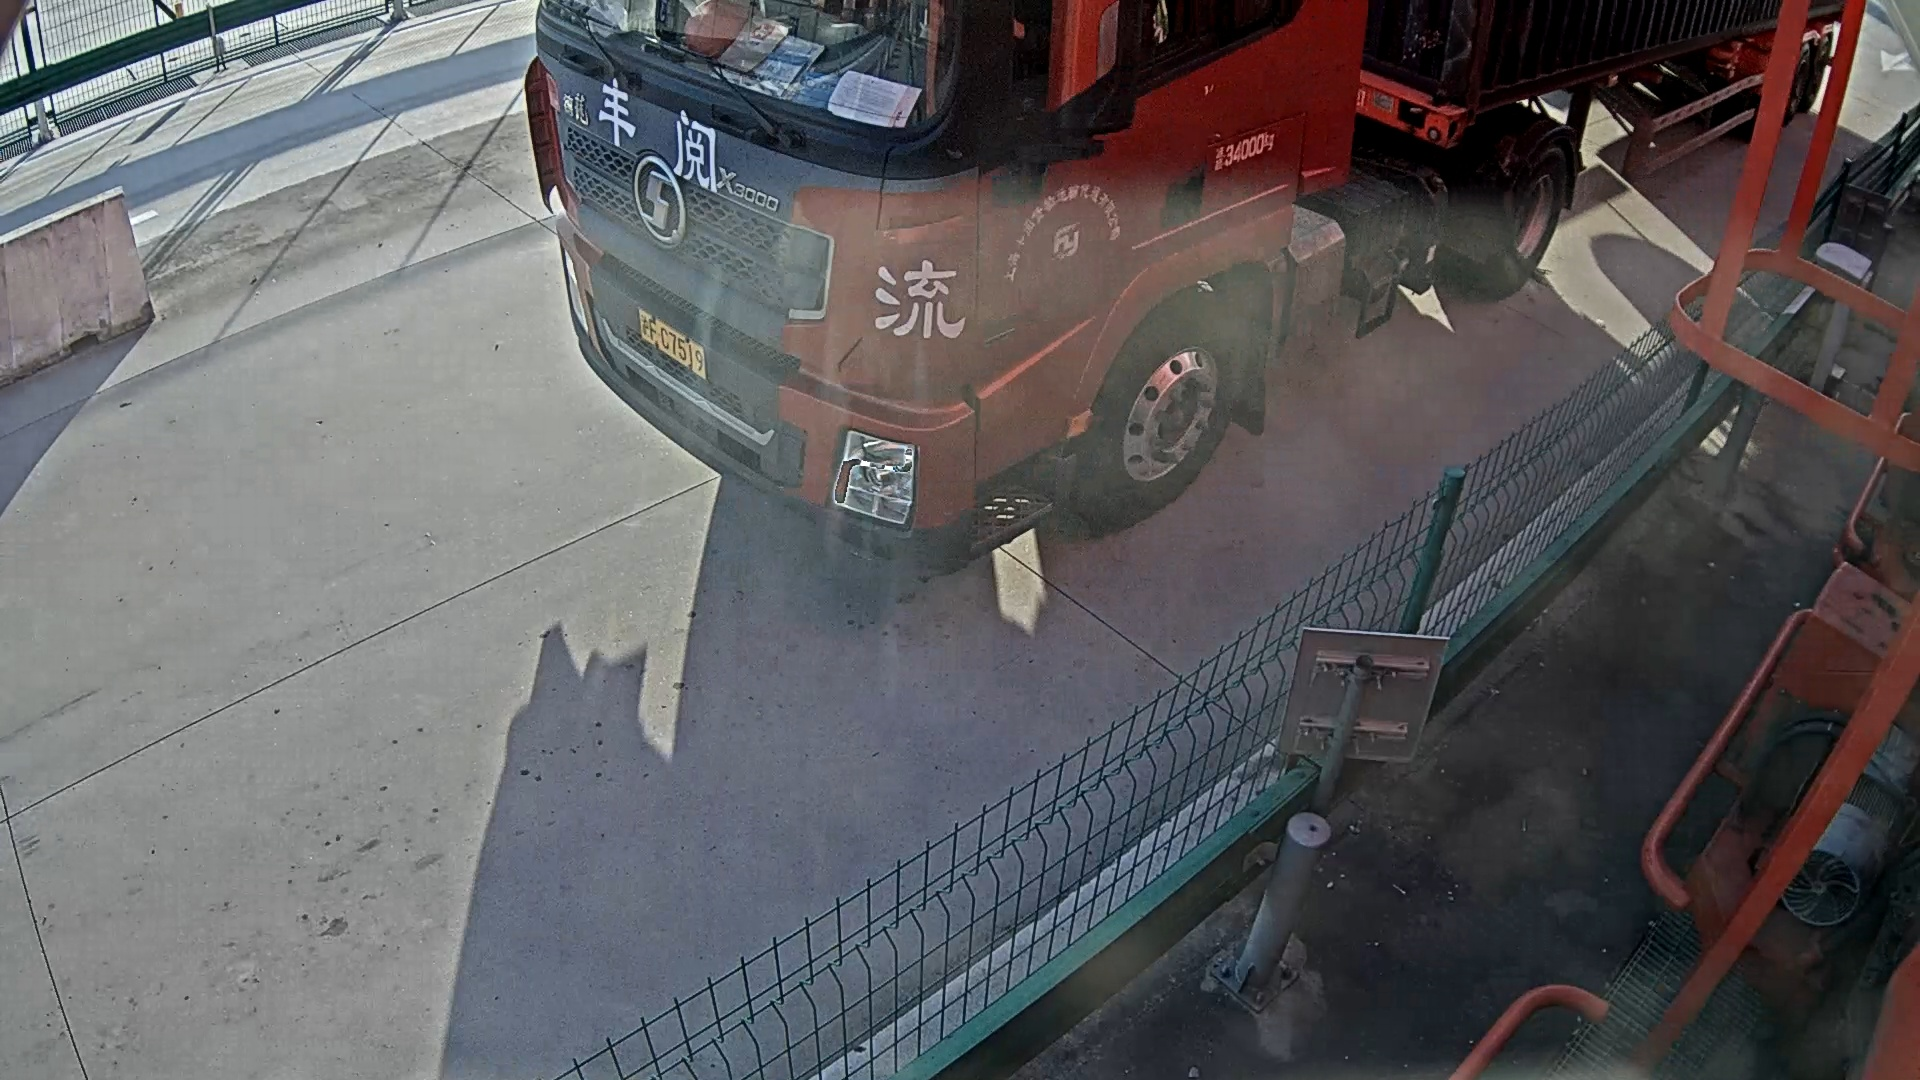head: (509, 2, 1214, 611)
plate: (626, 300, 735, 390)
